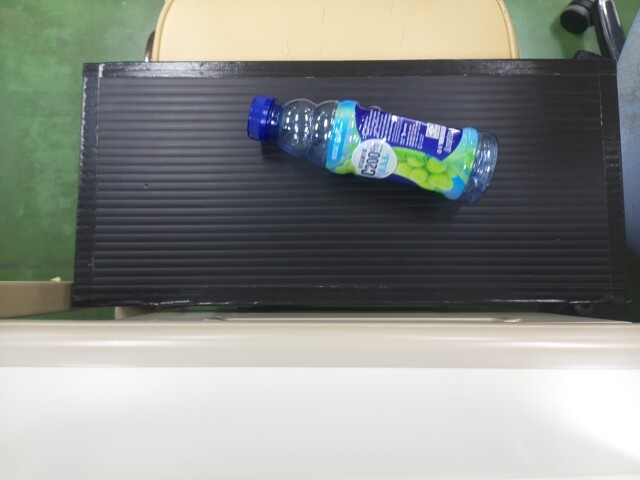plastic_bottle: (240, 92, 499, 204)
